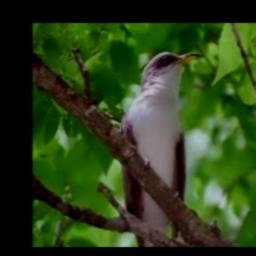Cuckoo: (119, 50, 200, 247)
